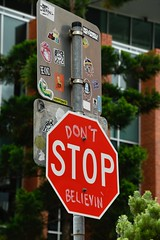StopSign: (45, 111, 119, 218)
